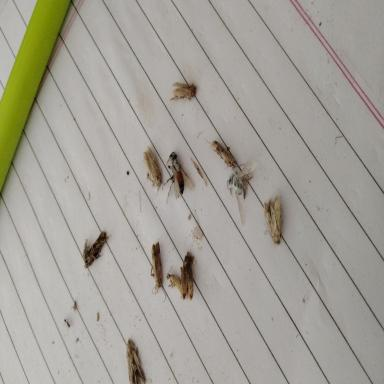pbw: (83, 229, 112, 269), (262, 194, 283, 248), (141, 144, 165, 188), (124, 339, 146, 384), (151, 238, 166, 302), (212, 139, 238, 168), (181, 252, 193, 300), (170, 81, 197, 100), (165, 266, 182, 296)
